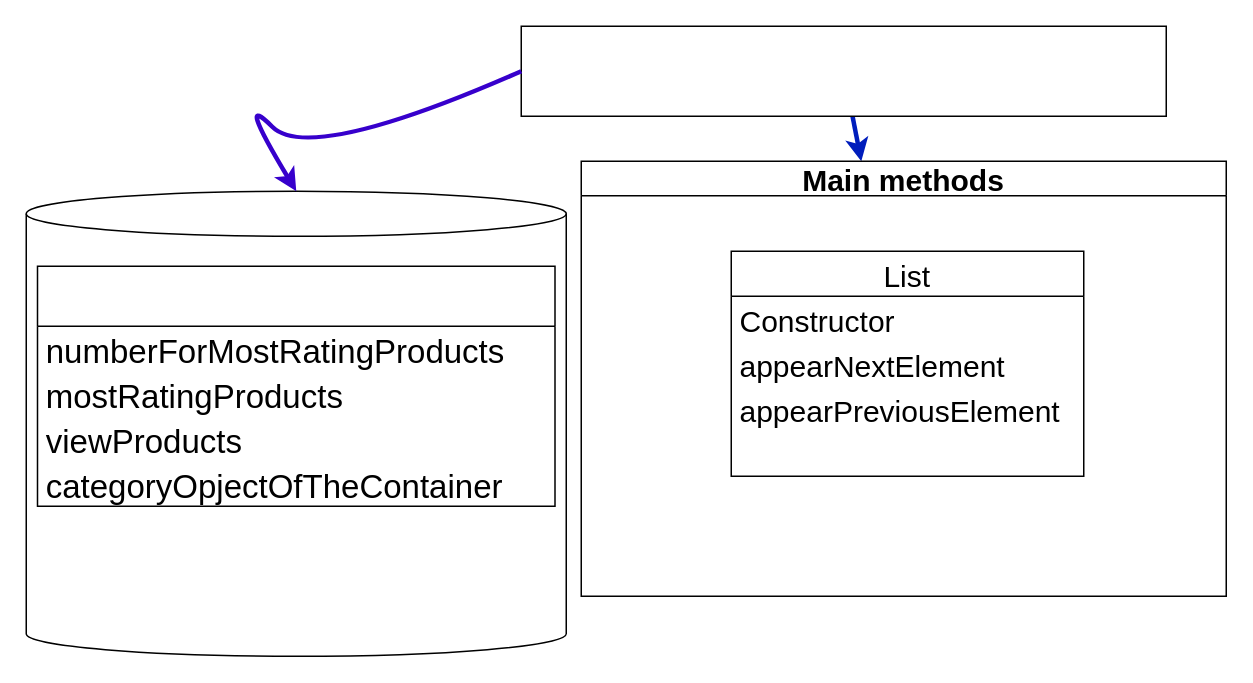
Some shapes in this 1253 by 683 pixel diagram are drawn without their labels. Each missing label, with the box of its shape:
Container Class: (520, 25, 1166, 116)
Secret parameters: (36, 265, 555, 506)
